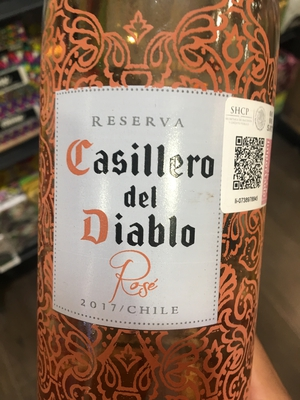casillero del diablo rose: (35, 4, 286, 400)
